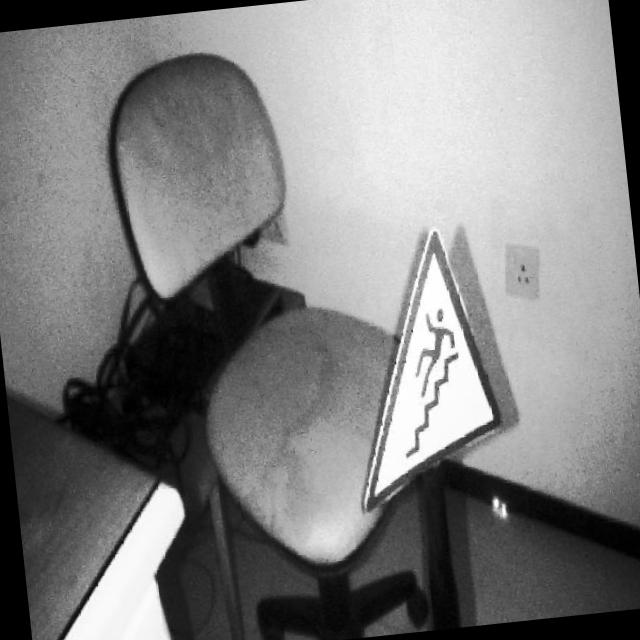Sign: (334, 220, 512, 515)
